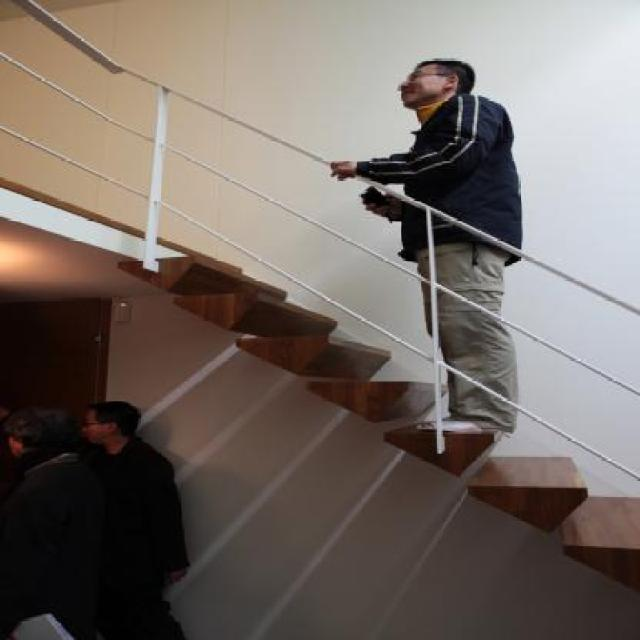stair: (118, 237, 640, 594)
